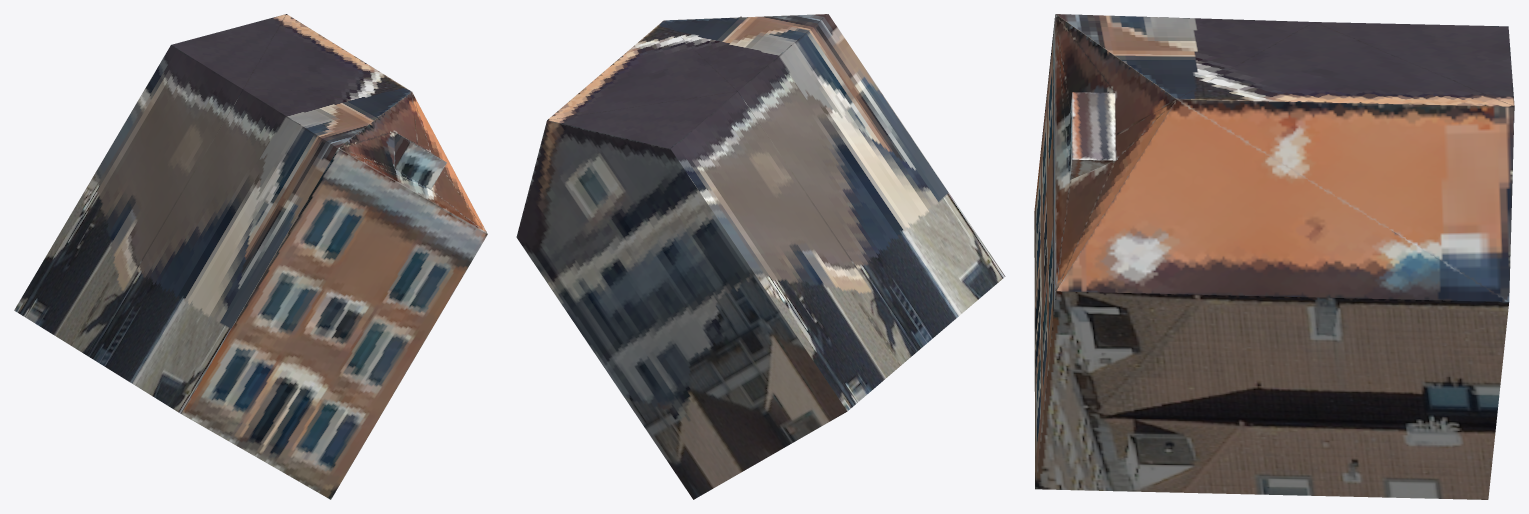
3 views of the same model, side by side, from view 1: azimuth 30°, elevation 25°; view 2: azimuth 150°, elevation 25°; view 3: azimuth 270°, elevation 25° (orthographic). The views are drawn at different scales.
Visible parts, largest first — view 1: BAG_0599100000675848 (×3); view 2: BAG_0599100000675848 (×3); view 3: BAG_0599100000675848 (×4).
Boxes of the visible parts, x1=… form: BAG_0599100000675848 (×3): x1=14, y1=14, x2=487, y2=499; BAG_0599100000675848 (×3): x1=516, y1=14, x2=1005, y2=499; BAG_0599100000675848 (×4): x1=1034, y1=14, x2=1514, y2=499.
Bounding box in the file's own units: 13.7 × 14.43 × 12.53.
Materials: 1 (1 with a texture image).
